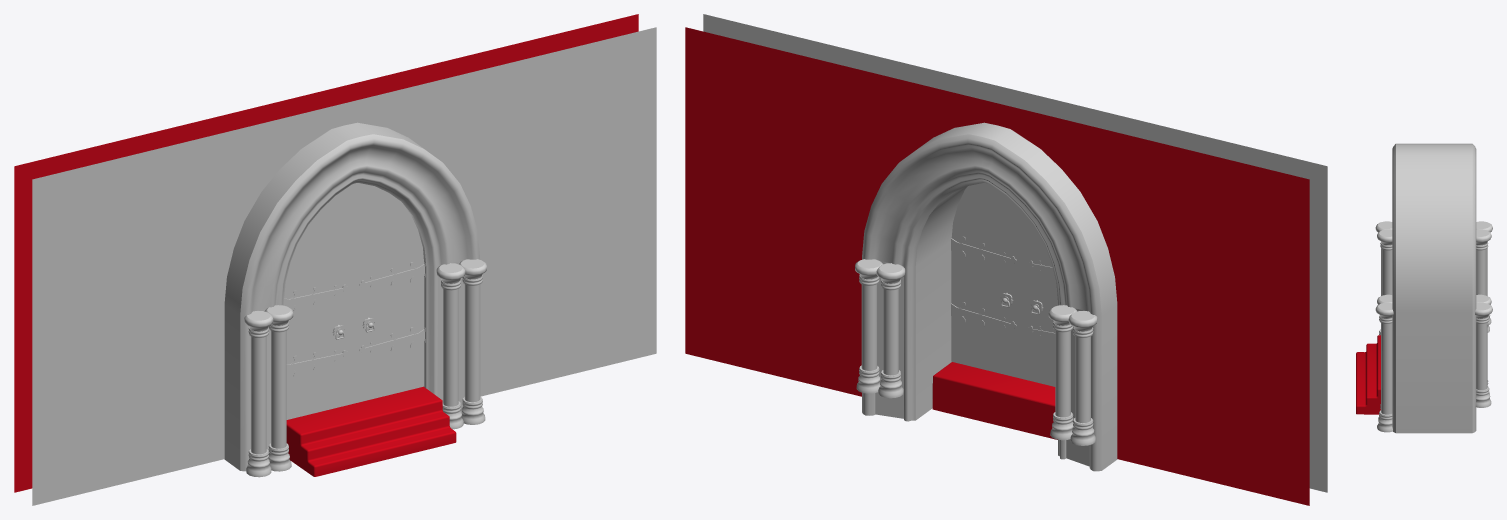
Rendered from Wall_Door.fbx.
3 renders of one model, left to right at view 1: azimuth 30°, elevation 25°; view 2: azimuth 150°, elevation 25°; view 3: azimuth 270°, elevation 25°, orthographic. The views are drawn at different scales.
Visible parts, largest first — view 1: Wall, Group_1.002, Group_1.005, Group_1.004; view 2: Wall, Group_1.002, Group_1.005, Group_1.004; view 3: Group_1.002.
Part boxes in pixels (left/top/right/bottom): Wall: left=14, top=14, right=656, bottom=505; Group_1.002: left=224, top=122, right=486, bottom=477; Group_1.005: left=353, top=183, right=425, bottom=403; Group_1.004: left=284, top=184, right=353, bottom=419; Wall: left=685, top=14, right=1327, bottom=505; Group_1.002: left=855, top=122, right=1117, bottom=471; Group_1.005: left=951, top=183, right=1022, bottom=378; Group_1.004: left=1022, top=212, right=1057, bottom=386; Group_1.002: left=1356, top=143, right=1492, bottom=433.
Size of the model in its own units: 1000 by 503 by 243.
